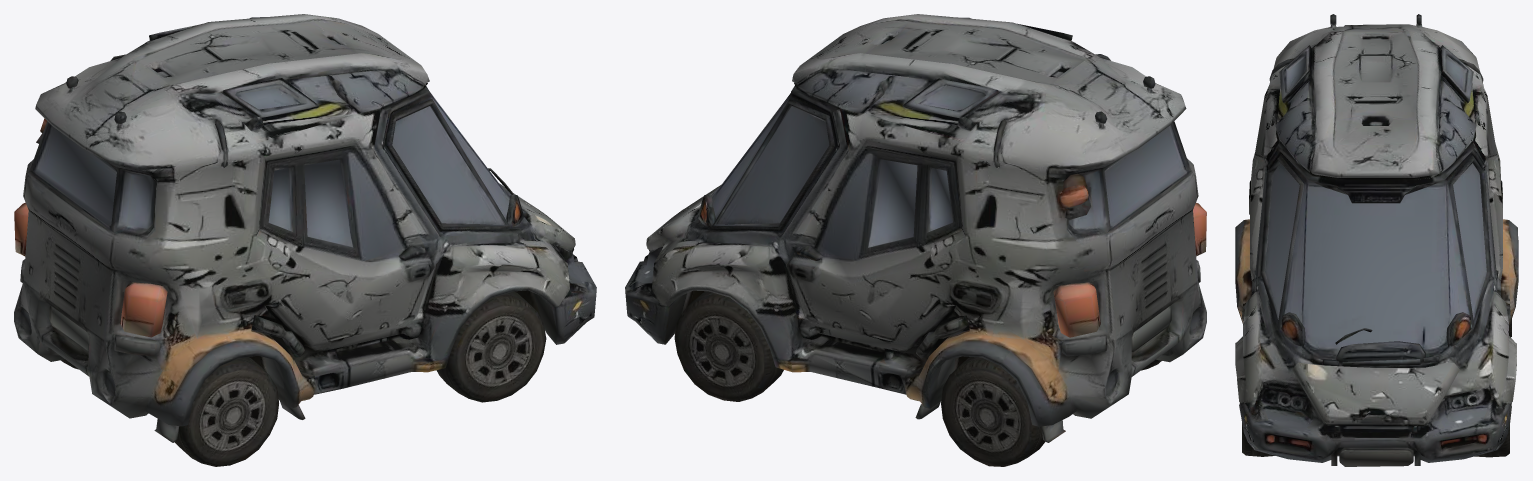
Rendered from damaged_future_transport.glb.
3 views of the same model, side by side, from view 1: azimuth 30°, elevation 25°; view 2: azimuth 150°, elevation 25°; view 3: azimuth 270°, elevation 25° (orthographic). The views are drawn at different scales.
Parts seen in each view (by area): view 1: tripo_node_3f940da2-1966-49d5-af4d-1a3ce8e83324; view 2: tripo_node_3f940da2-1966-49d5-af4d-1a3ce8e83324; view 3: tripo_node_3f940da2-1966-49d5-af4d-1a3ce8e83324.
Part boxes in pixels (x1,y1,x2,y2): tripo_node_3f940da2-1966-49d5-af4d-1a3ce8e83324: (14, 14, 596, 466); tripo_node_3f940da2-1966-49d5-af4d-1a3ce8e83324: (625, 14, 1206, 466); tripo_node_3f940da2-1966-49d5-af4d-1a3ce8e83324: (1235, 14, 1518, 466).
Bounding box in the file's own units: 0.9961 × 0.6777 × 0.5645.
1 material, 1 textured.
